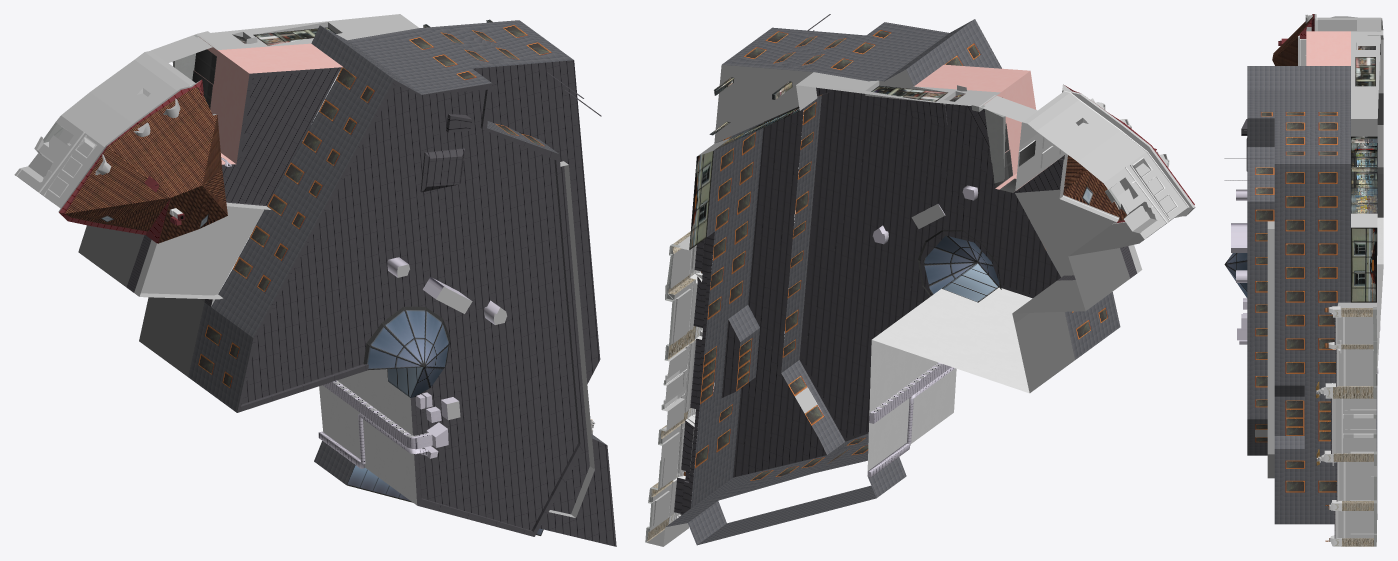
The model's file is Vana_Viru_10-origo.obj.
3 renders of one model, left to right at view 1: azimuth 30°, elevation 25°; view 2: azimuth 150°, elevation 25°; view 3: azimuth 270°, elevation 25°, orthographic. The views are drawn at different scales.
Visible parts, largest first — view 1: Vana_Viru_10; view 2: Vana_Viru_10; view 3: Vana_Viru_10.
Boxes of the visible parts, x1=… form: Vana_Viru_10: x1=14, y1=14, x2=616, y2=546; Vana_Viru_10: x1=645, y1=14, x2=1195, y2=546; Vana_Viru_10: x1=1224, y1=14, x2=1383, y2=546.
Size of the model in its own units: 52.81 by 51.5 by 19.04.
